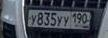license-plateSW: (28, 9, 91, 29)
